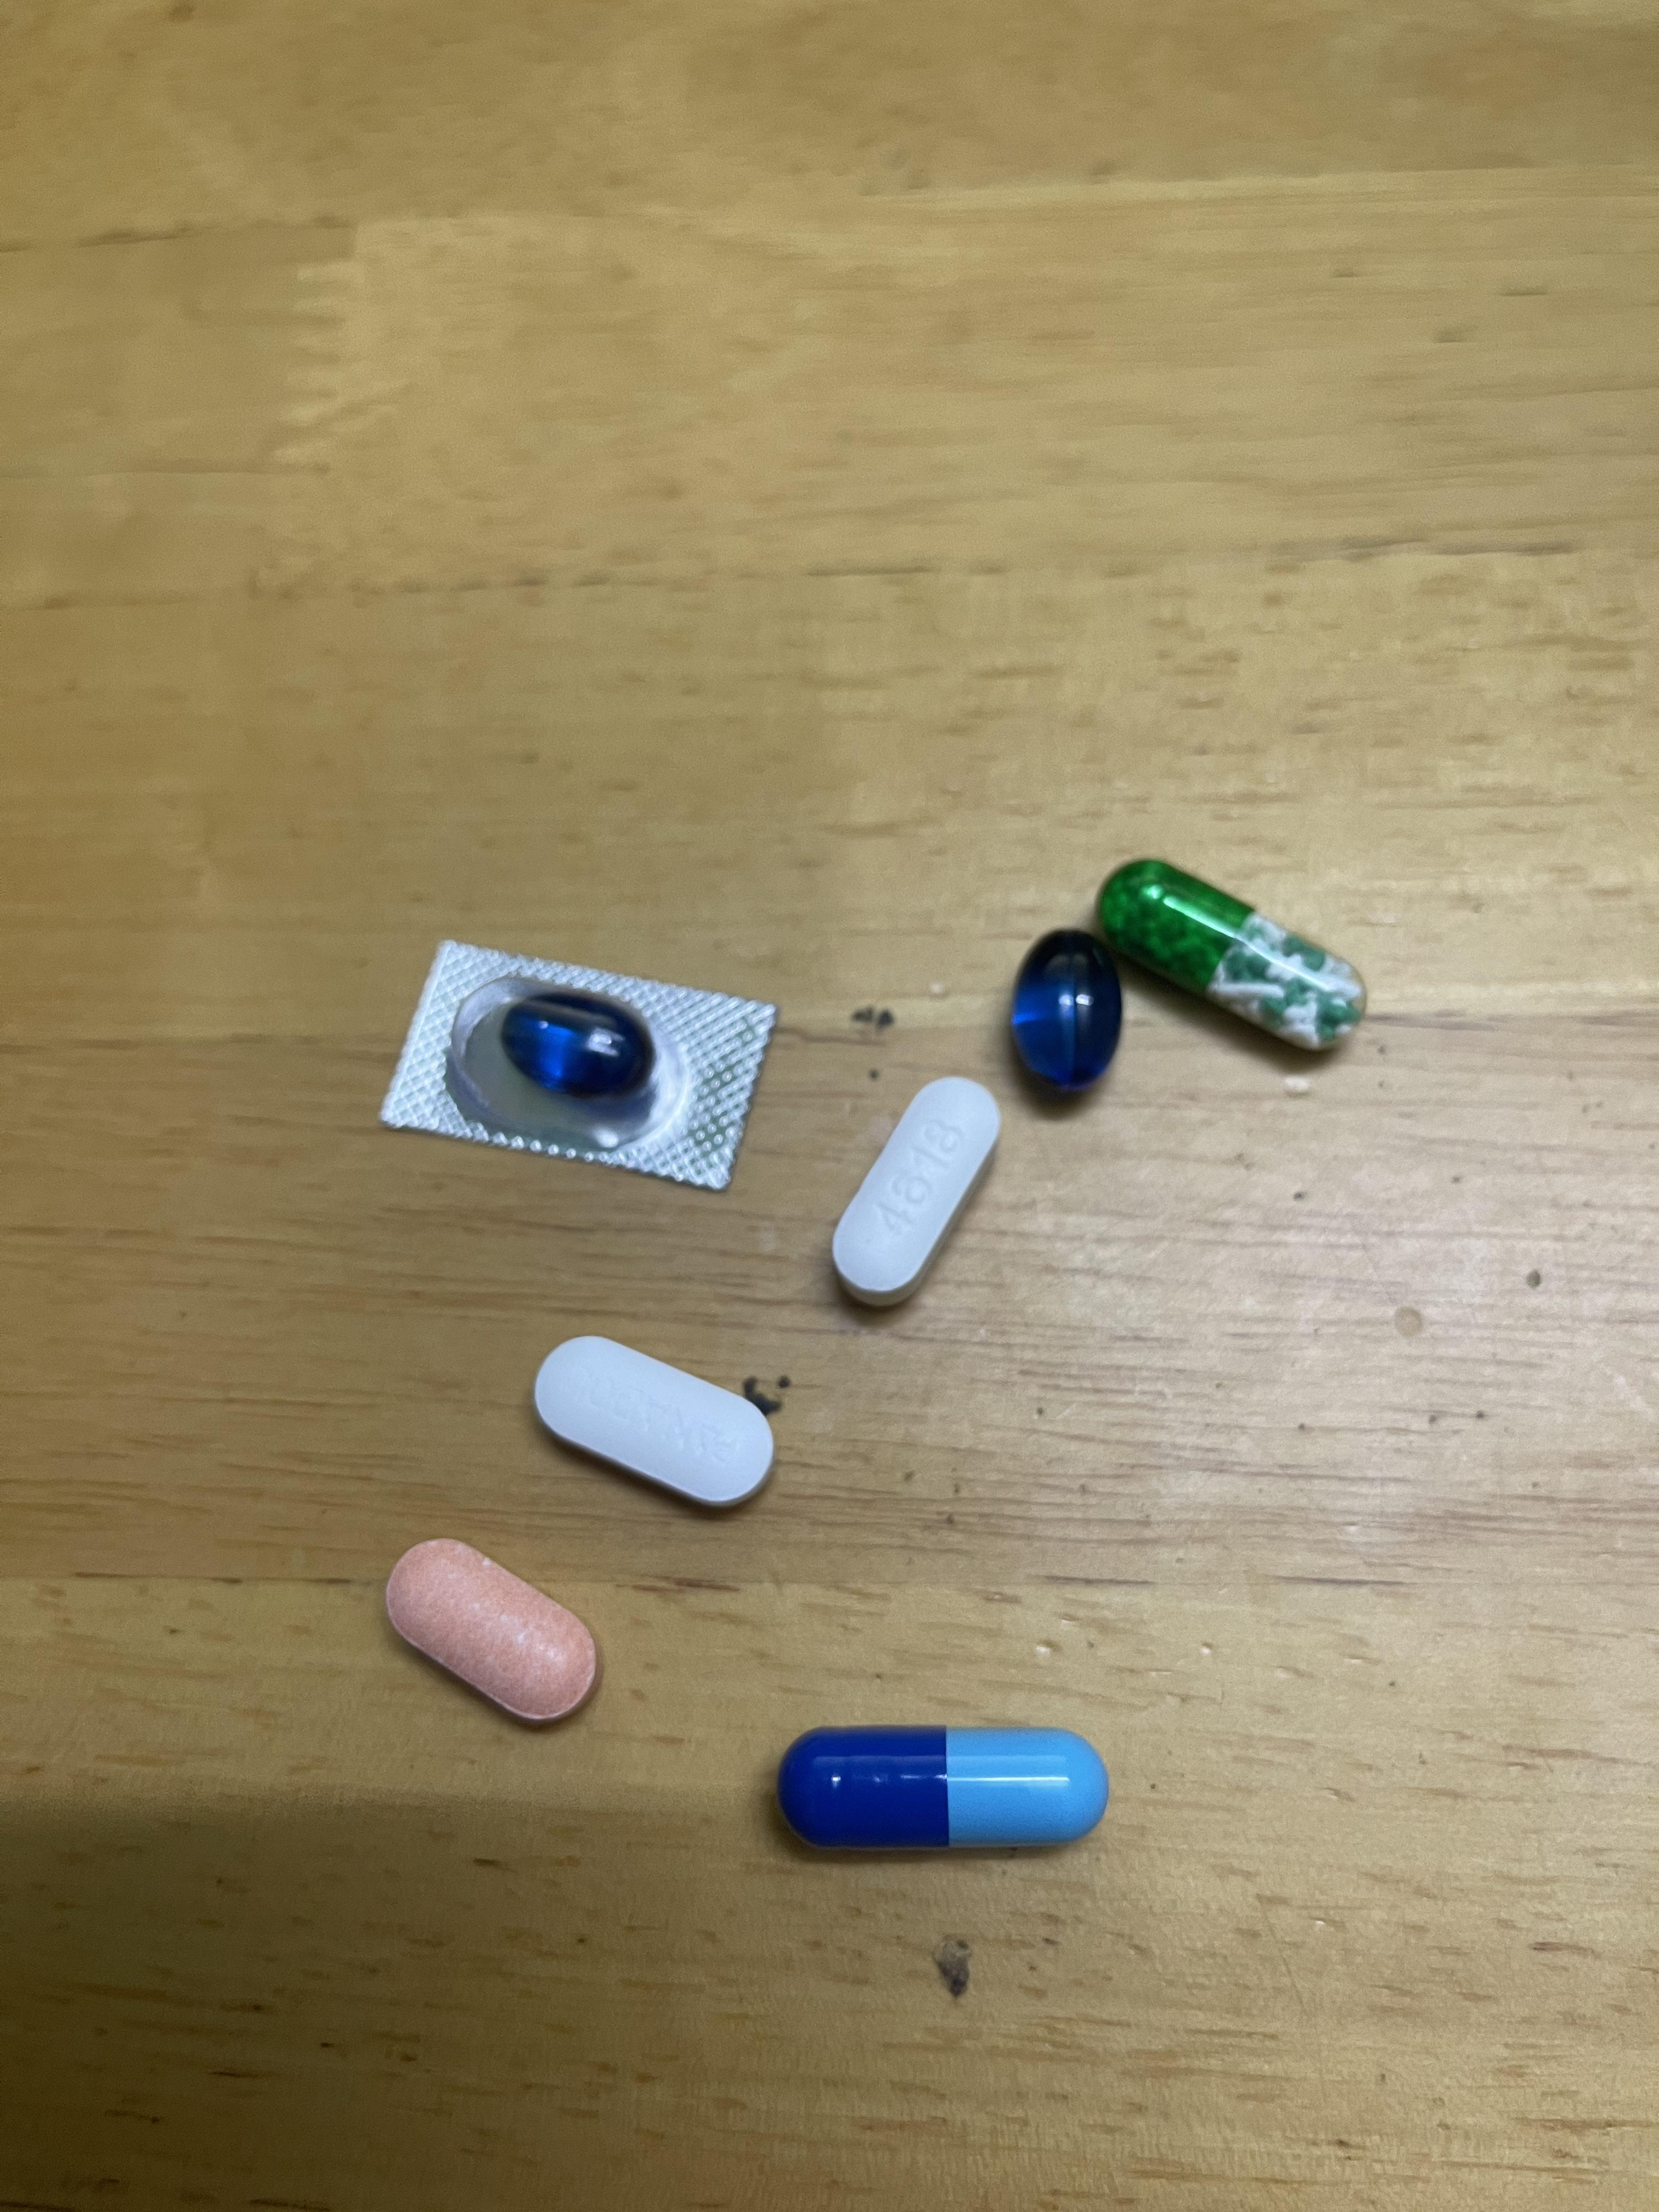Lincomyxin_500mg: (493, 986, 655, 1106), (1009, 927, 1124, 1092)
Loratadine_10mg: (382, 1529, 599, 1730)
Paracetamol_350mg: (535, 1331, 769, 1514)
Paracetamol_500mg: (828, 1069, 1000, 1305)
Paracetamol_650mg: (1096, 859, 1358, 1047)
pill: (782, 1712, 1103, 1862)
